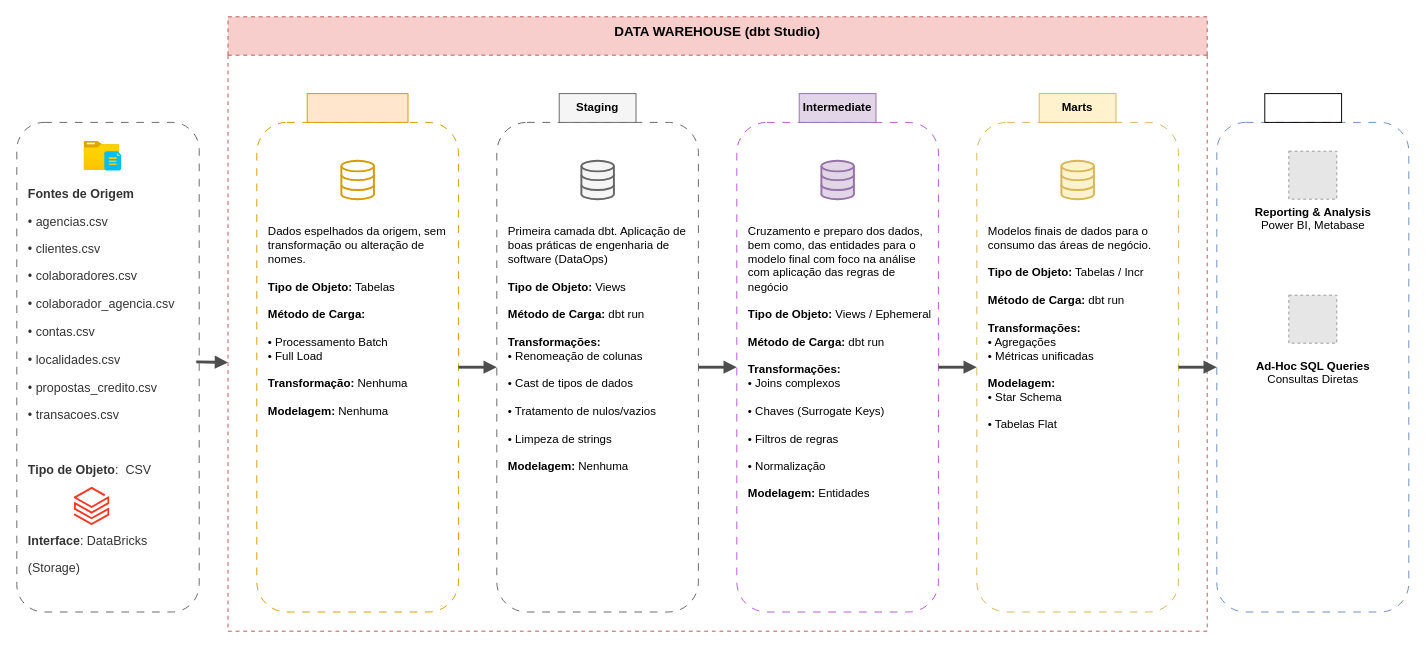
Some shapes in this 1426 by 648 pixel diagram are drawn without their labels. Grey dashed boxes stand in for pictures. Each missing label, with the box of its shape:
Camada raw: (306, 93, 408, 122)
Consume: (1264, 93, 1342, 122)
